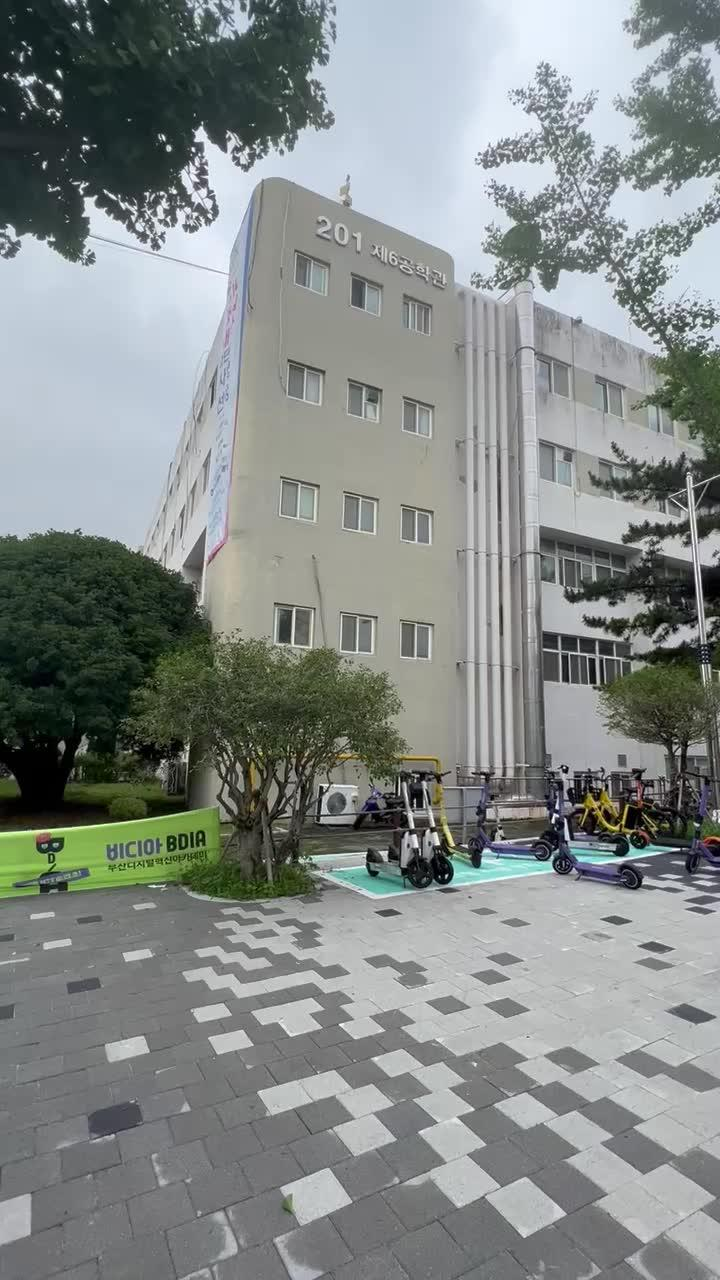building: (228, 196, 544, 660)
